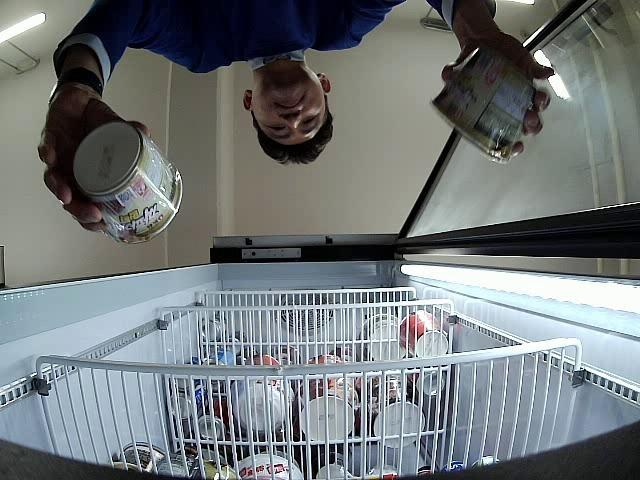04_chapagetti_S: (72, 120, 182, 245), (430, 45, 538, 164)
